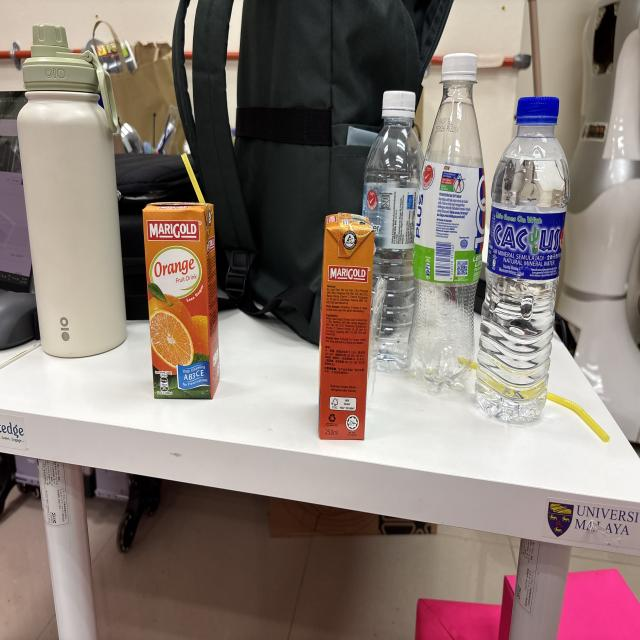drink_carton: (139, 148, 224, 404), (314, 205, 376, 445)
plastic_bottle: (470, 91, 575, 439), (403, 47, 490, 407), (358, 82, 428, 372)
